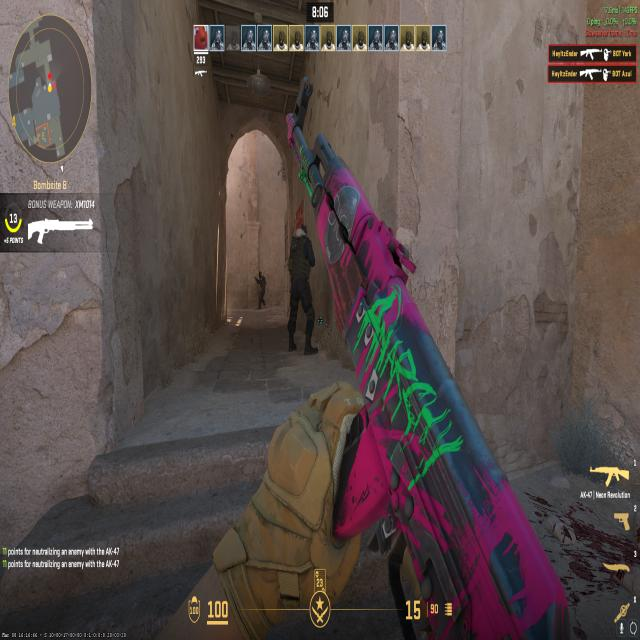ct: (284, 214, 318, 363), (254, 268, 268, 309)
